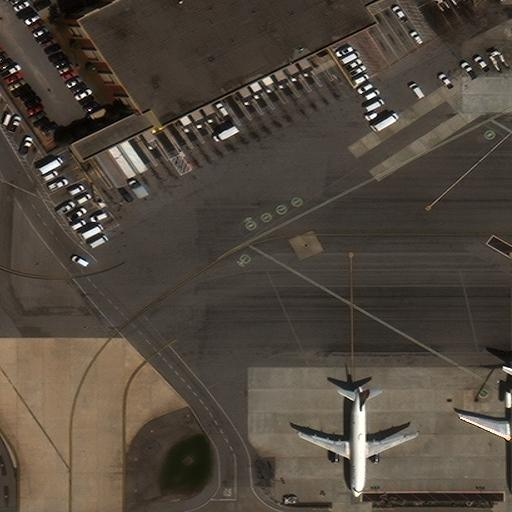Medium Civil Transport: (299, 384, 416, 497), (459, 378, 512, 494)
